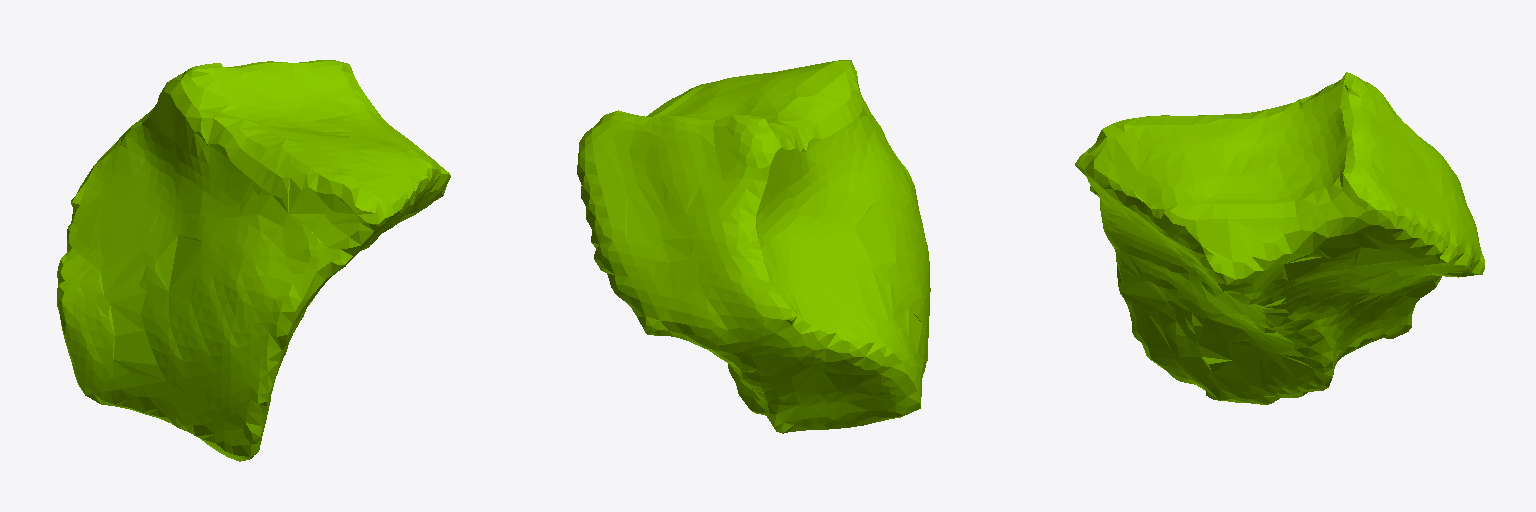
Rendered from Model_10102_LH__Orbital_proisocortex_(OPro).obj.
The picture shows the model from 3 angles: view 1: azimuth 30°, elevation 25°; view 2: azimuth 150°, elevation 25°; view 3: azimuth 270°, elevation 25°; orthographic projection.
Bounding box in the file's own units: 2.61 × 2.54 × 2.8.